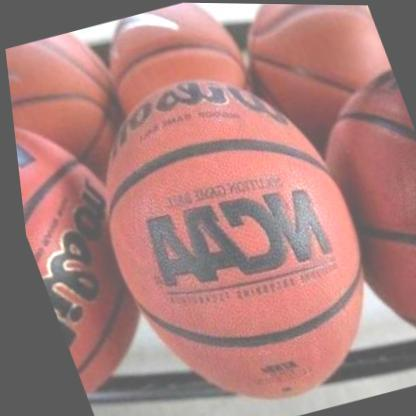basketball: (49, 49, 405, 416), (9, 100, 173, 416), (287, 52, 416, 386), (223, 3, 403, 132), (85, 1, 259, 133), (2, 25, 136, 185)
